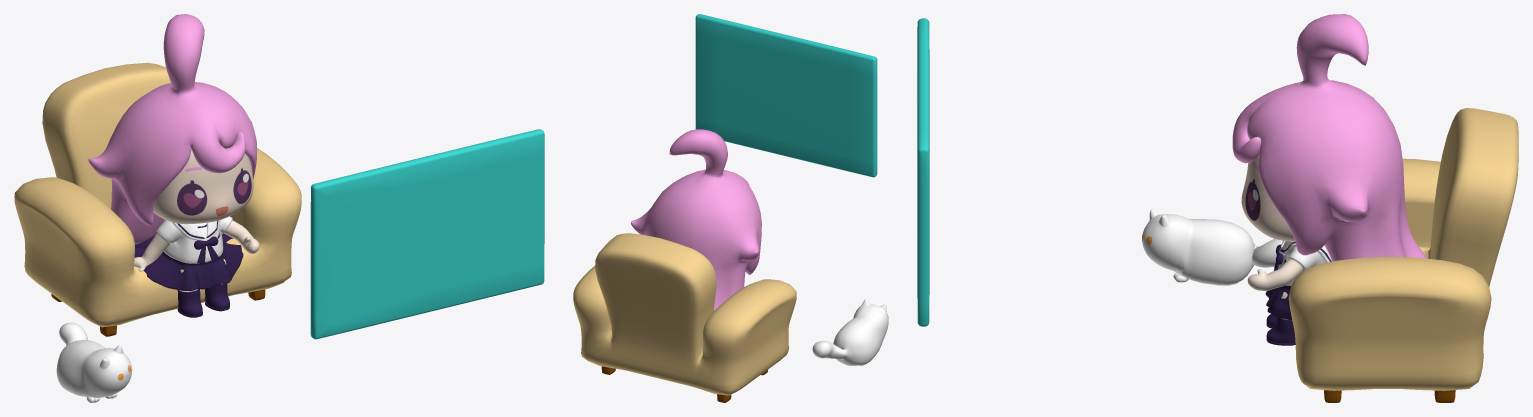
Rendered from MAO_JT_16428.FBX.
The picture shows the model from 3 angles, left to right: view 1: azimuth 30°, elevation 25°; view 2: azimuth 150°, elevation 25°; view 3: azimuth 270°, elevation 25°; orthographic projection. The views are drawn at different scales.
Visible parts, largest first — view 1: Box020, Box021, 444444, Box004, 789; view 2: Box021, Box020, 444444, 789; view 3: Box021, 444444, 789, Box020, Box004.
Boxes of the visible parts, bbox=[...] form: Box020: bbox=[310, 129, 544, 339]; Box021: bbox=[14, 62, 301, 336]; 444444: bbox=[88, 14, 256, 244]; Box004: bbox=[134, 216, 259, 317]; 789: bbox=[56, 322, 132, 402]; Box021: bbox=[573, 233, 796, 402]; Box020: bbox=[695, 14, 877, 177]; 444444: bbox=[631, 129, 761, 310]; 789: bbox=[812, 299, 888, 365]; Box021: bbox=[1288, 108, 1518, 402]; 444444: bbox=[1232, 14, 1427, 261]; 789: bbox=[1142, 209, 1282, 285]; Box020: bbox=[917, 18, 929, 326]; Box004: bbox=[1247, 240, 1332, 345].
Bounding box in the file's own units: 40.02 × 32.18 × 50.37.
5 materials, 4 textured.
